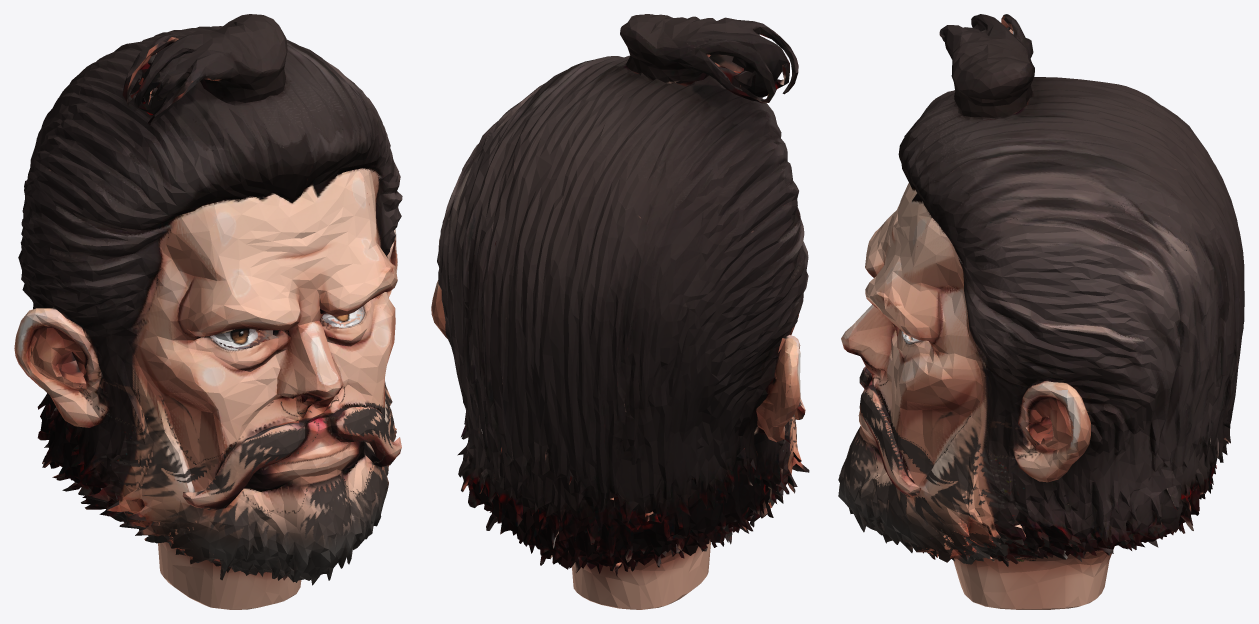
Rendered from side_karo_repaired_atlas.glb.
The picture shows the model from 3 angles, left to right: view 1: azimuth 30°, elevation 25°; view 2: azimuth 150°, elevation 25°; view 3: azimuth 270°, elevation 25°; orthographic projection. The views are drawn at different scales.
Visible parts, largest first — view 1: temp_mesh.ply; view 2: temp_mesh.ply; view 3: temp_mesh.ply.
Boxes of the visible parts, x1,y1,x2,y2 form: temp_mesh.ply: (14, 14, 402, 609); temp_mesh.ply: (431, 14, 809, 609); temp_mesh.ply: (838, 14, 1244, 609).
Bounding box in the file's own units: 1.38 × 1.97 × 1.37.
Materials: 1 (1 with a texture image).
